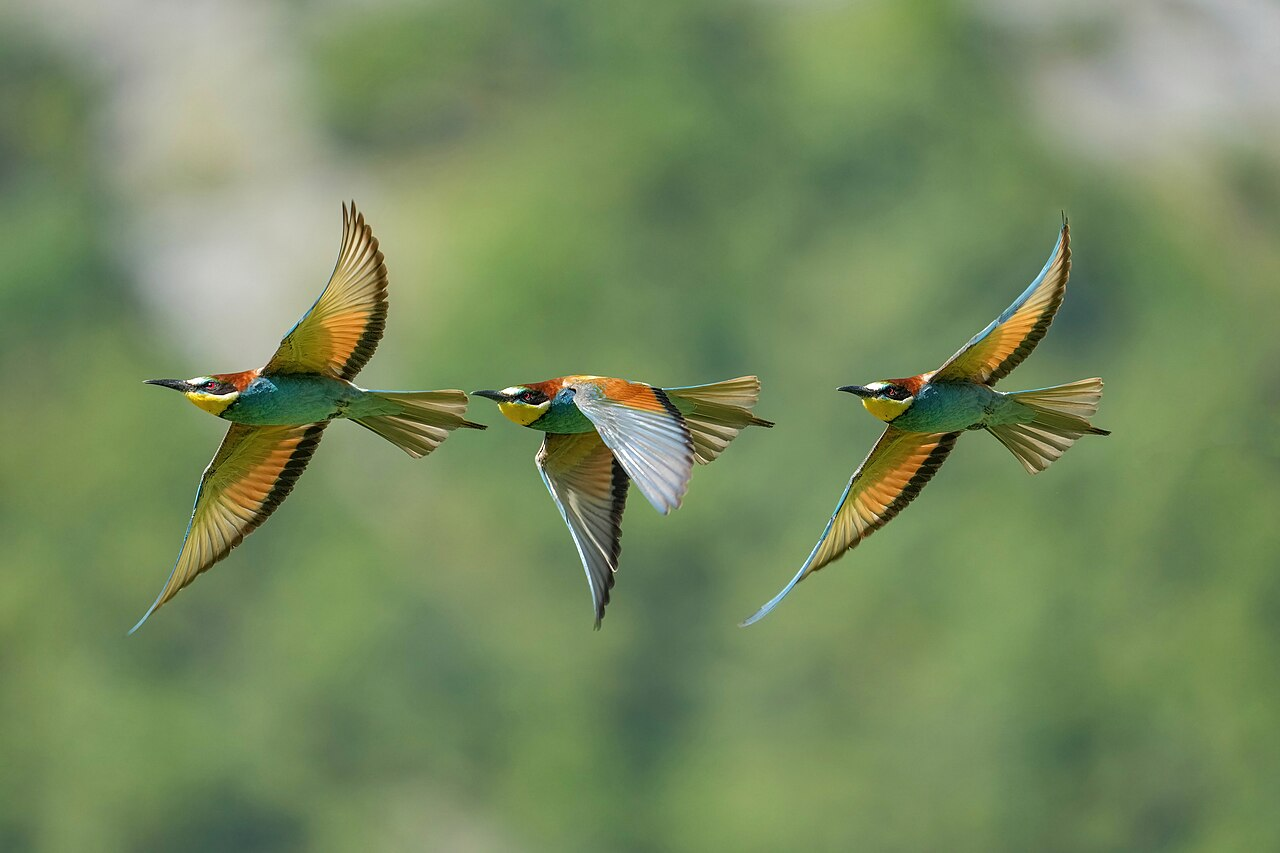bird: (127, 198, 488, 635), (739, 206, 1111, 628), (468, 373, 776, 630)
